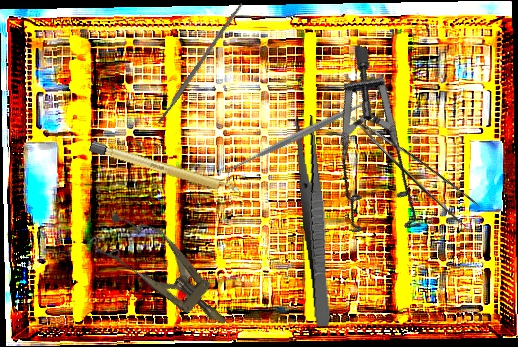Dressing Forceps: (292, 114, 337, 328)
Scalpel Handle: (155, 1, 245, 125), (88, 140, 242, 198)
Spatula Surgical: (219, 84, 389, 181)
Speculum: (281, 43, 482, 259), (85, 198, 244, 346)
Tissue Forceps: (350, 97, 484, 232)
